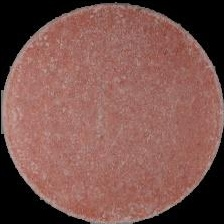60760-128: (0, 0, 224, 224)
